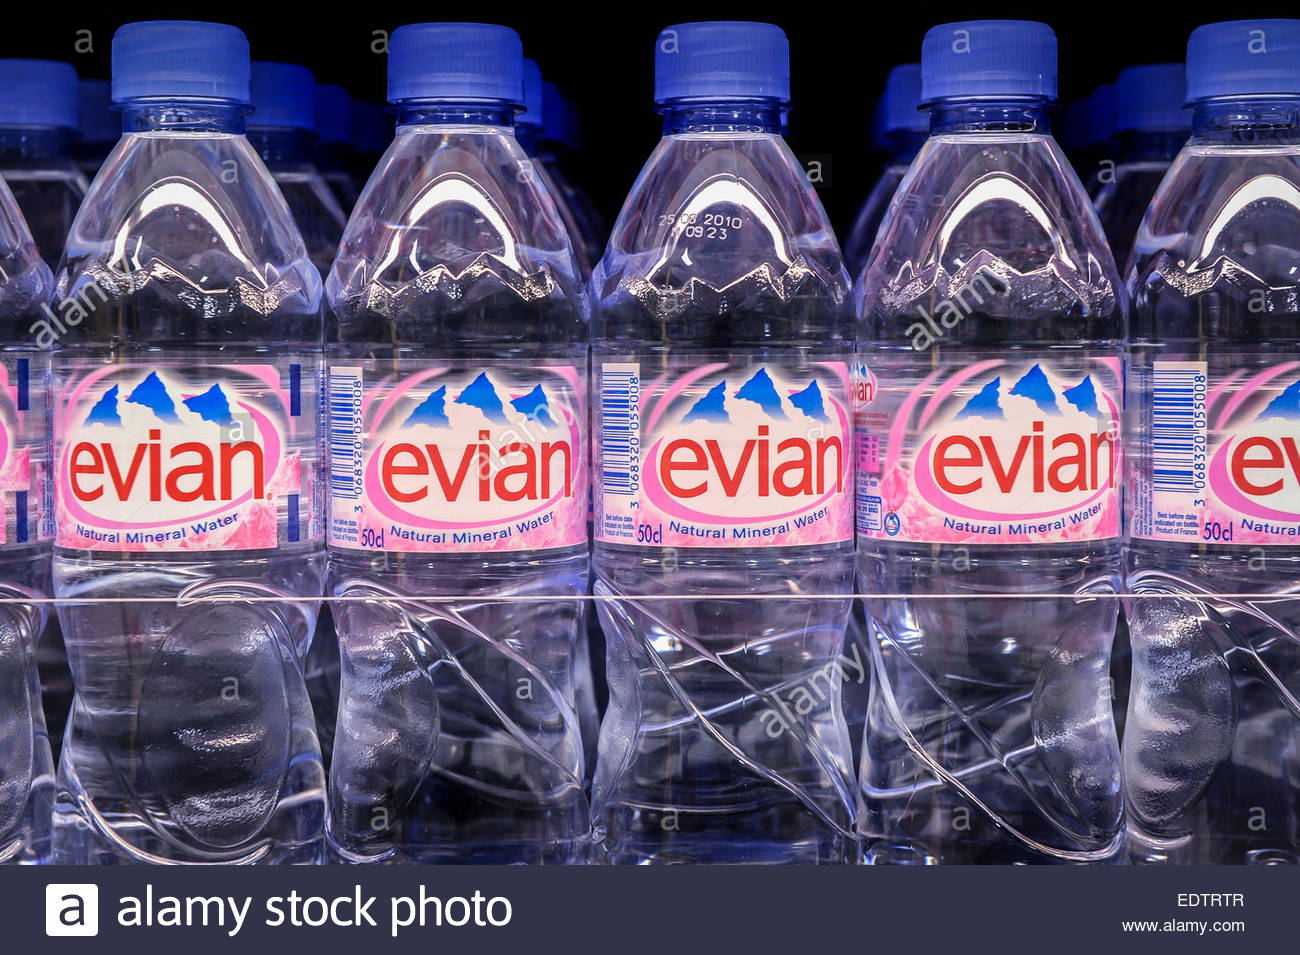Evian: (591, 21, 874, 866), (327, 23, 601, 880), (64, 22, 329, 869), (317, 362, 599, 559)
